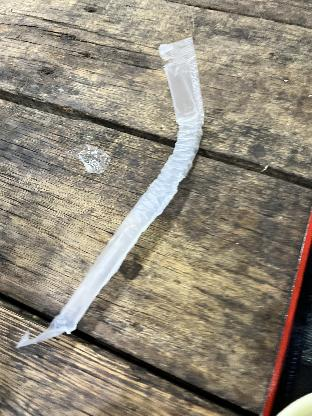Others: (15, 34, 199, 350)
